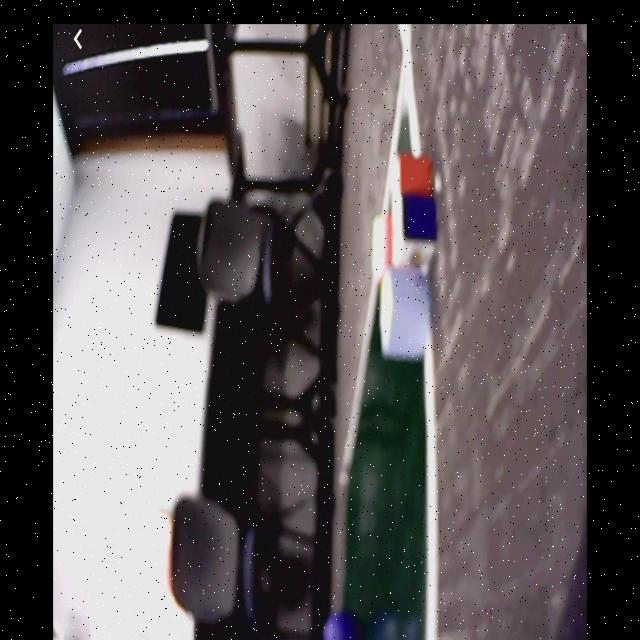ball: (321, 609, 364, 640)
